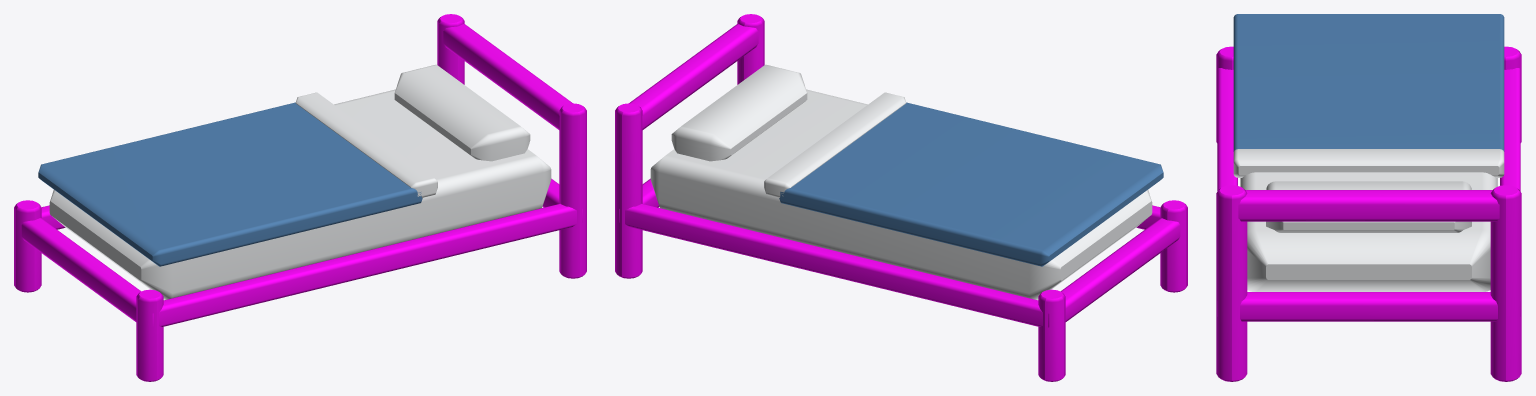
The model's file is objet_lit.glb.
3 views of the same model, side by side, from view 1: azimuth 30°, elevation 25°; view 2: azimuth 150°, elevation 25°; view 3: azimuth 270°, elevation 25° (orthographic). The views are drawn at different scales.
Visible parts, largest first — view 1: lit_couverture.002, lit_drap.002, lit_teinte.002; view 2: lit_couverture.002, lit_drap.002, lit_teinte.002; view 3: lit_couverture.002, lit_teinte.002, lit_drap.002.
Part boxes in pixels (x1,y1,x2,y2): lit_couverture.002: (38,102,422,266); lit_drap.002: (49,64,551,299); lit_teinte.002: (14,14,586,381); lit_couverture.002: (779,102,1163,266); lit_drap.002: (650,64,1152,299); lit_teinte.002: (615,14,1187,381); lit_couverture.002: (1233,14,1504,151); lit_teinte.002: (1216,46,1521,381); lit_drap.002: (1233,149,1504,291).
Bounding box in the file's own units: 0.338 × 0.12 × 0.178.
